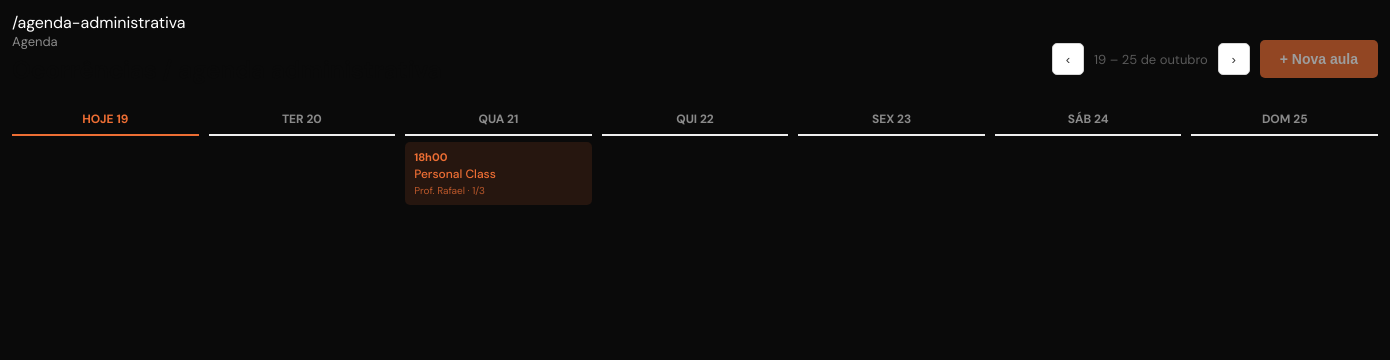
Test: Professor: Agenda → alunos da aula → ficha de treino › Agenda › o professor que clica na própria aula vai direto à lista de alunos
This screenshot has width=1390, height=360.
Click the button "18h00 Personal Class Prof. Rafael · 1/3" at (498, 174), box [405,142,592,205]
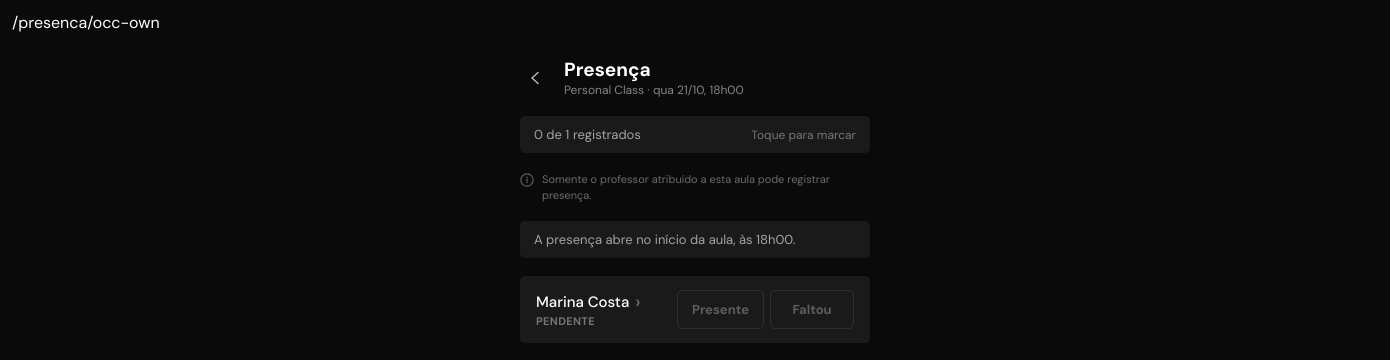
expect the heading "Presença" is shown: met, box [564,57,651,82]
expect the text named "rota" reads "/presenca/occ-own": met, box [12,12,160,33]
expect the link "Marina Costa ›" is shown: met, box [536,292,640,312]
